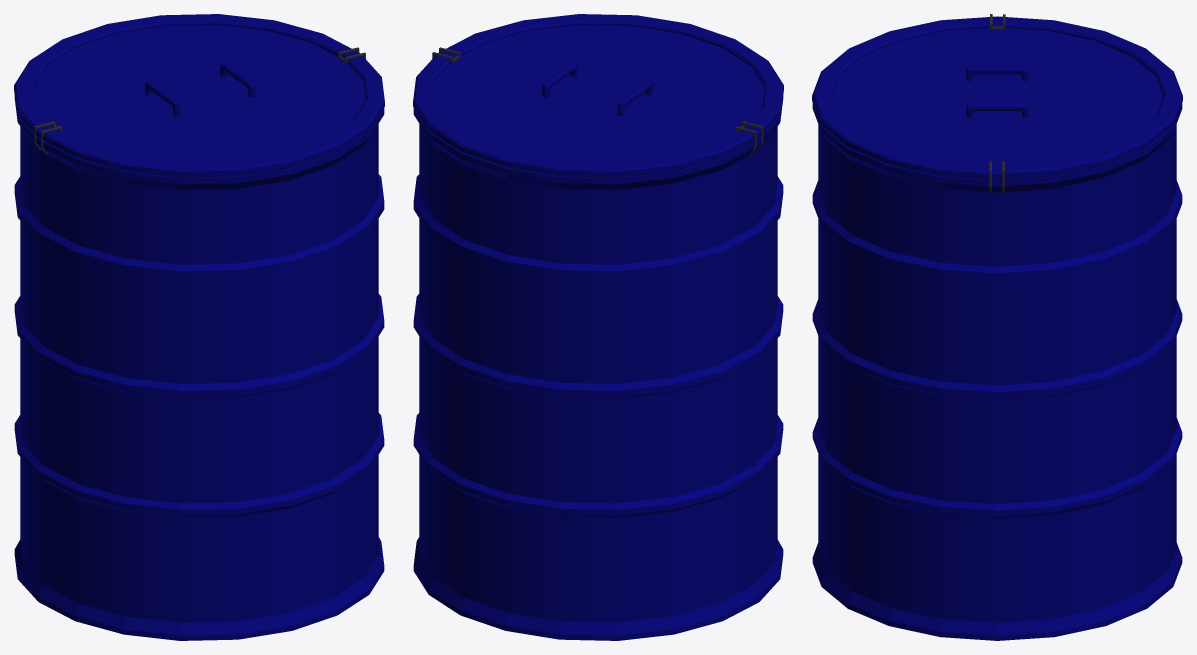
Rendered from Oil Drum_Closed.fbx.
3 renders of one model, left to right at view 1: azimuth 30°, elevation 25°; view 2: azimuth 150°, elevation 25°; view 3: azimuth 270°, elevation 25°, orthographic.
Visible parts, largest first — view 1: pCylinder1, pCylinder3; view 2: pCylinder1, pCylinder3; view 3: pCylinder1, pCylinder3, pCube2, pCube1.
Boxes of the visible parts, box(x1,y1,x2,y2) form: pCylinder1: box(14, 96, 384, 640); pCylinder3: box(14, 14, 384, 177); pCylinder1: box(413, 96, 783, 640); pCylinder3: box(413, 14, 783, 177); pCylinder1: box(812, 103, 1182, 640); pCylinder3: box(812, 16, 1182, 179); pCube2: box(966, 66, 1028, 81); pCube1: box(966, 103, 1028, 117).
Size of the model in its own units: 7.57 by 10.73 by 7.55.
